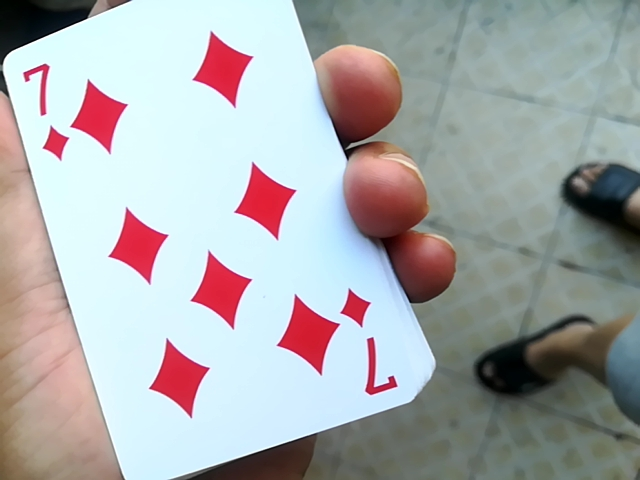fk 7: (14, 6, 433, 475)
